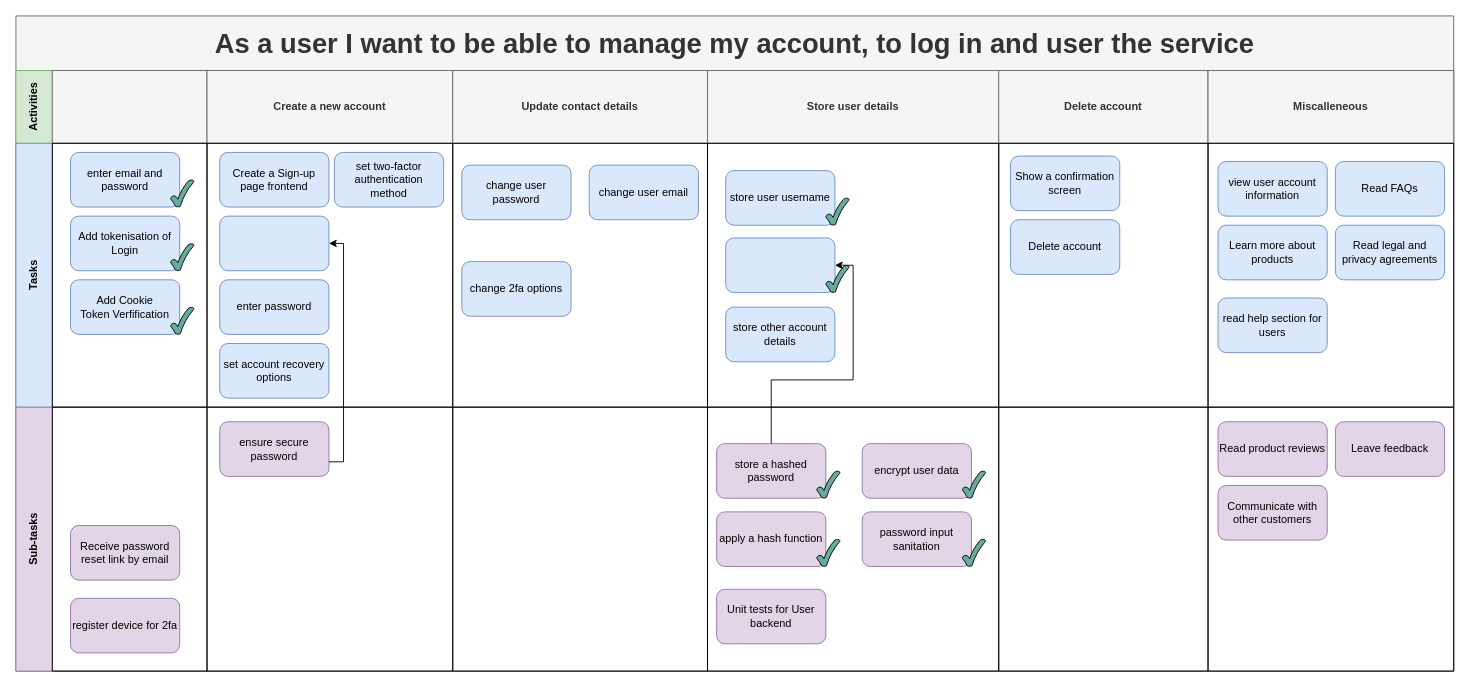
The diagram is 1470 pixels wide and 687 high, and some of its shapes have lost their labels. Each missing label, with the centre of its shape:
enter unique username (email): (x=274, y=243)
Log in: (x=129, y=106)
store password: (x=780, y=265)
